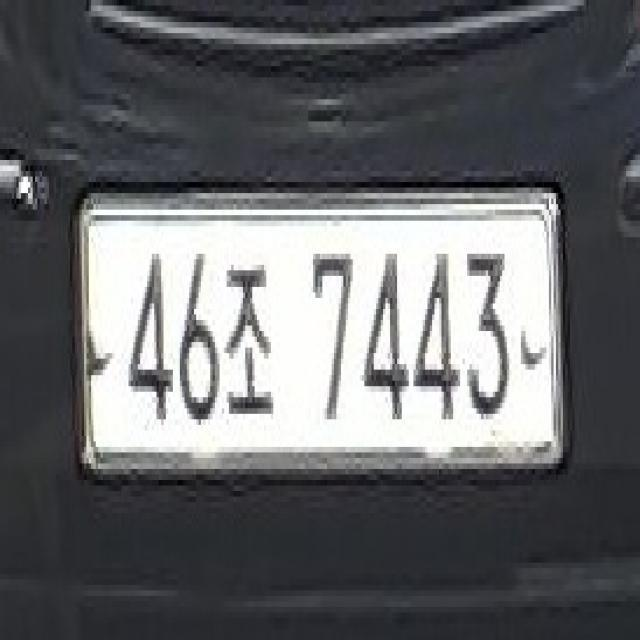3: (466, 248, 516, 424)
4: (123, 245, 176, 446), (413, 246, 464, 442), (364, 244, 410, 438)
6: (178, 246, 220, 436)
7: (306, 242, 358, 429)
jo: (222, 251, 280, 428)
license_plate: (65, 162, 574, 489)
